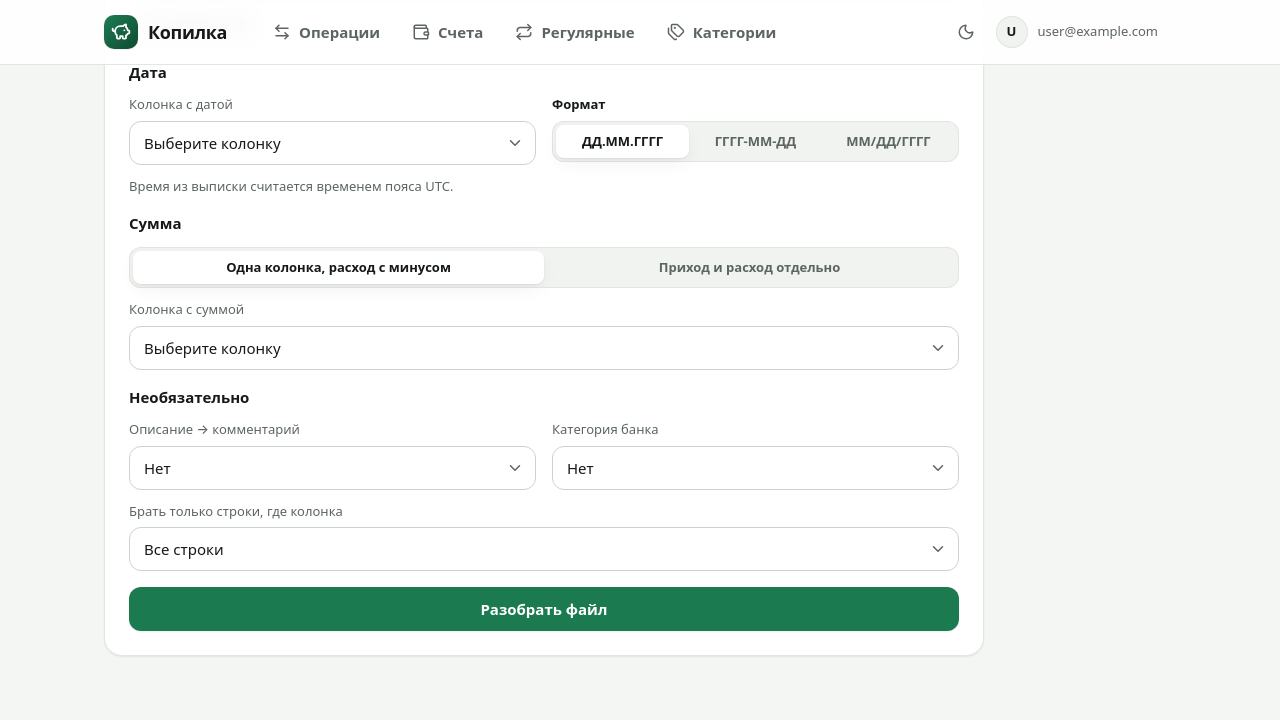
Test: ImportPage › asks for the columns of an unknown format
(page scrolled)
Click the button "Разобрать файл": click(544, 609) [129, 587, 959, 631]
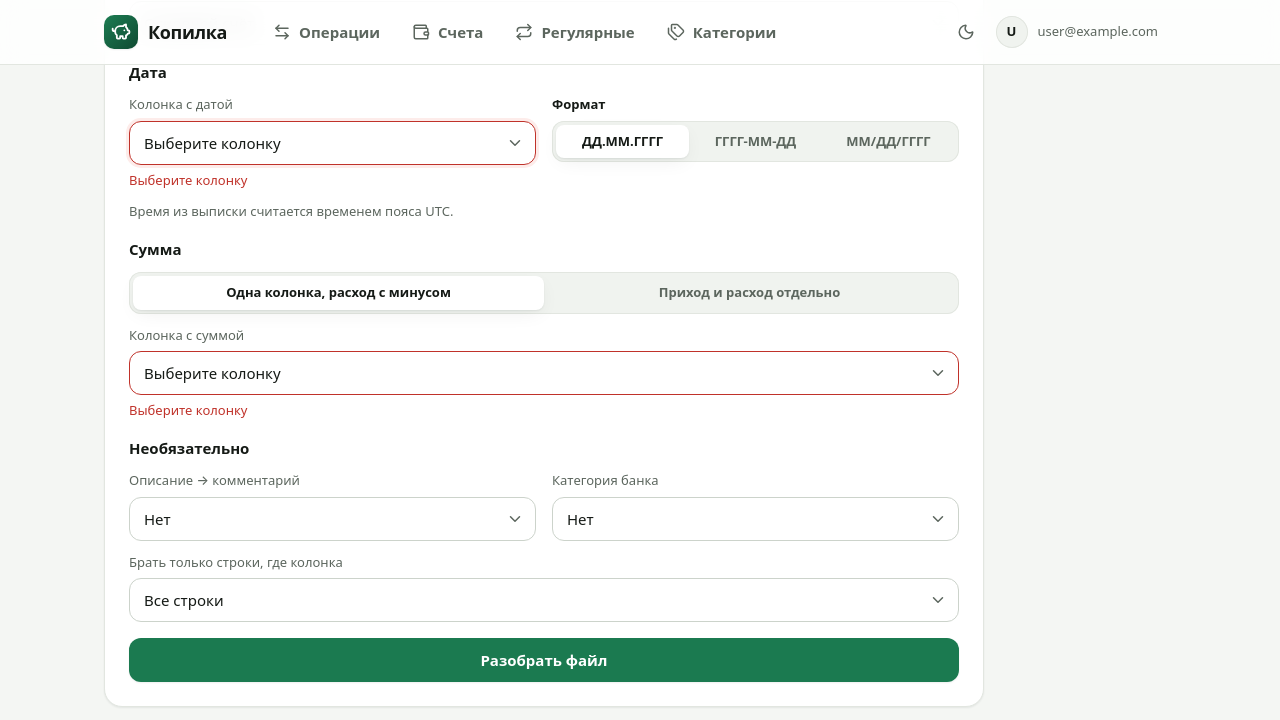
Result: the messages read "Выберите колонку", "Выберите колонку", in this order at [129, 171, 248, 189]; [129, 401, 248, 419]
